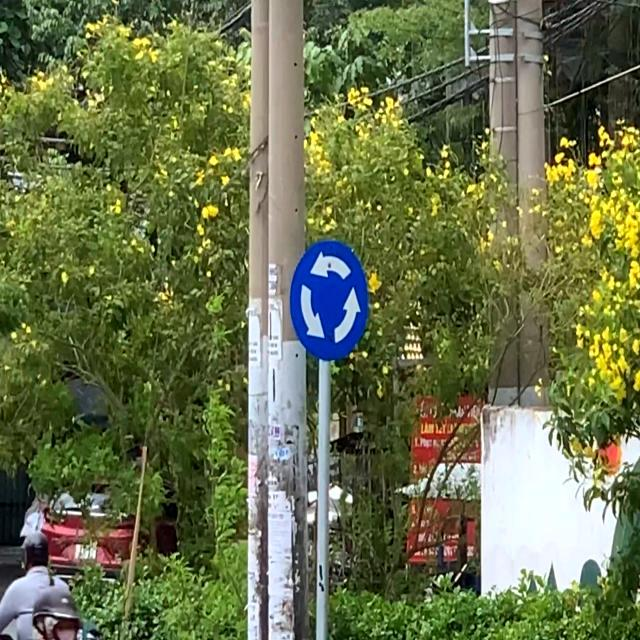Noi giao nhau chay theo vong xuyen: (288, 239, 368, 362)
